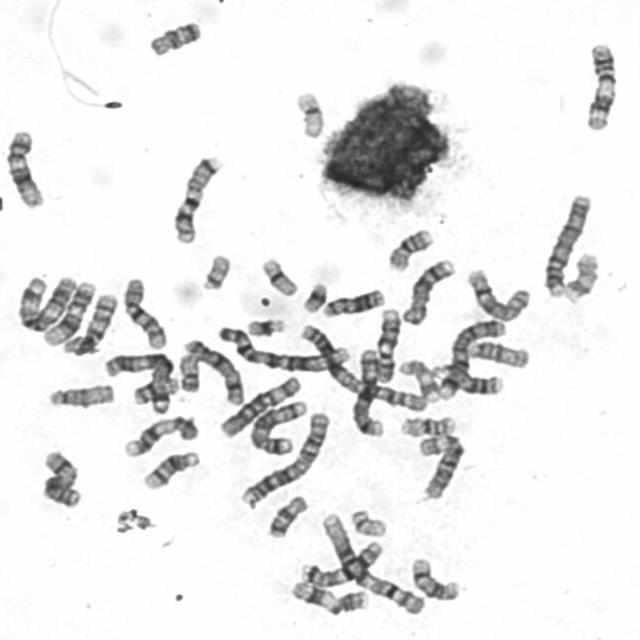A1: (316, 508, 428, 616), (213, 322, 353, 374)
A2: (293, 320, 431, 413), (237, 408, 332, 508)
A3: (100, 348, 175, 413), (13, 271, 79, 334)
B4: (434, 316, 508, 401), (539, 190, 593, 300)
B5: (345, 342, 387, 444), (246, 397, 309, 457)
C10: (59, 289, 119, 357), (118, 273, 169, 351)
C11: (580, 39, 620, 133), (287, 577, 370, 617)
C12: (38, 276, 98, 348), (2, 126, 47, 210)
C6: (215, 371, 304, 439), (413, 430, 468, 501)
C7: (169, 150, 224, 246), (295, 535, 385, 590)
C8: (397, 254, 458, 327), (462, 264, 534, 323)
C9: (119, 412, 201, 459), (371, 304, 403, 385)
D13: (429, 358, 505, 397), (318, 285, 386, 319)
D14: (138, 447, 202, 491), (407, 553, 462, 603)
D15: (43, 380, 117, 410), (465, 337, 532, 370)
E16: (384, 225, 434, 272), (396, 412, 458, 438)
E17: (560, 248, 602, 304), (394, 356, 441, 402)
E18: (144, 16, 204, 58), (264, 491, 310, 540)
F19: (290, 86, 326, 140), (257, 254, 300, 298)
F20: (129, 374, 181, 406), (174, 351, 202, 394)
G21: (298, 278, 329, 314), (242, 314, 288, 338)
G22: (197, 250, 233, 292), (346, 505, 388, 539)
X: (178, 336, 246, 406), (37, 446, 83, 509)
